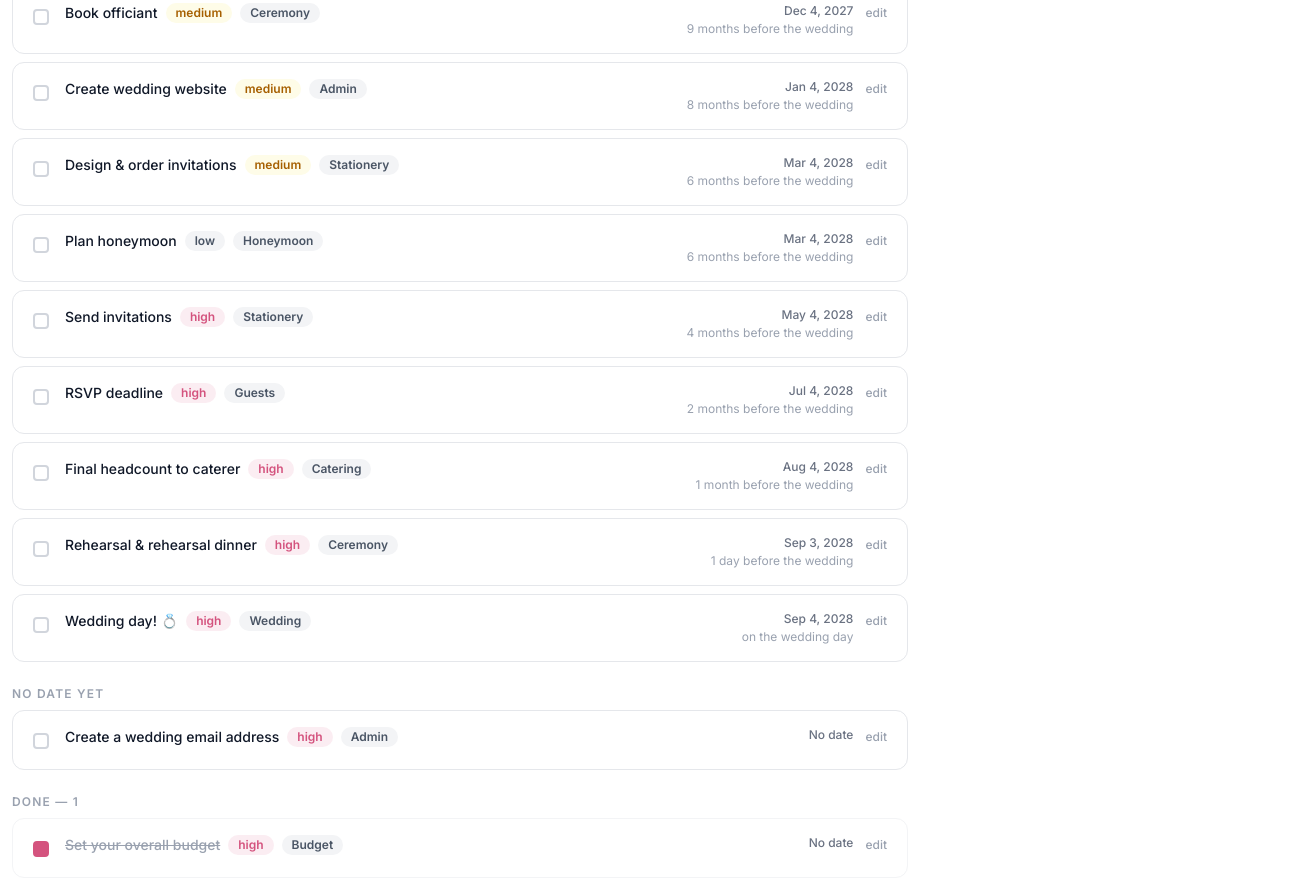
Test case: Timeline — one merged list › persists a completed item that was never in the store
The image size is (1292, 878).
(page scrolled)
Click the button named "Mark \"Create a wedding email address\" complete" at (41, 741), box [33,733,49,749]
(page scrolled)
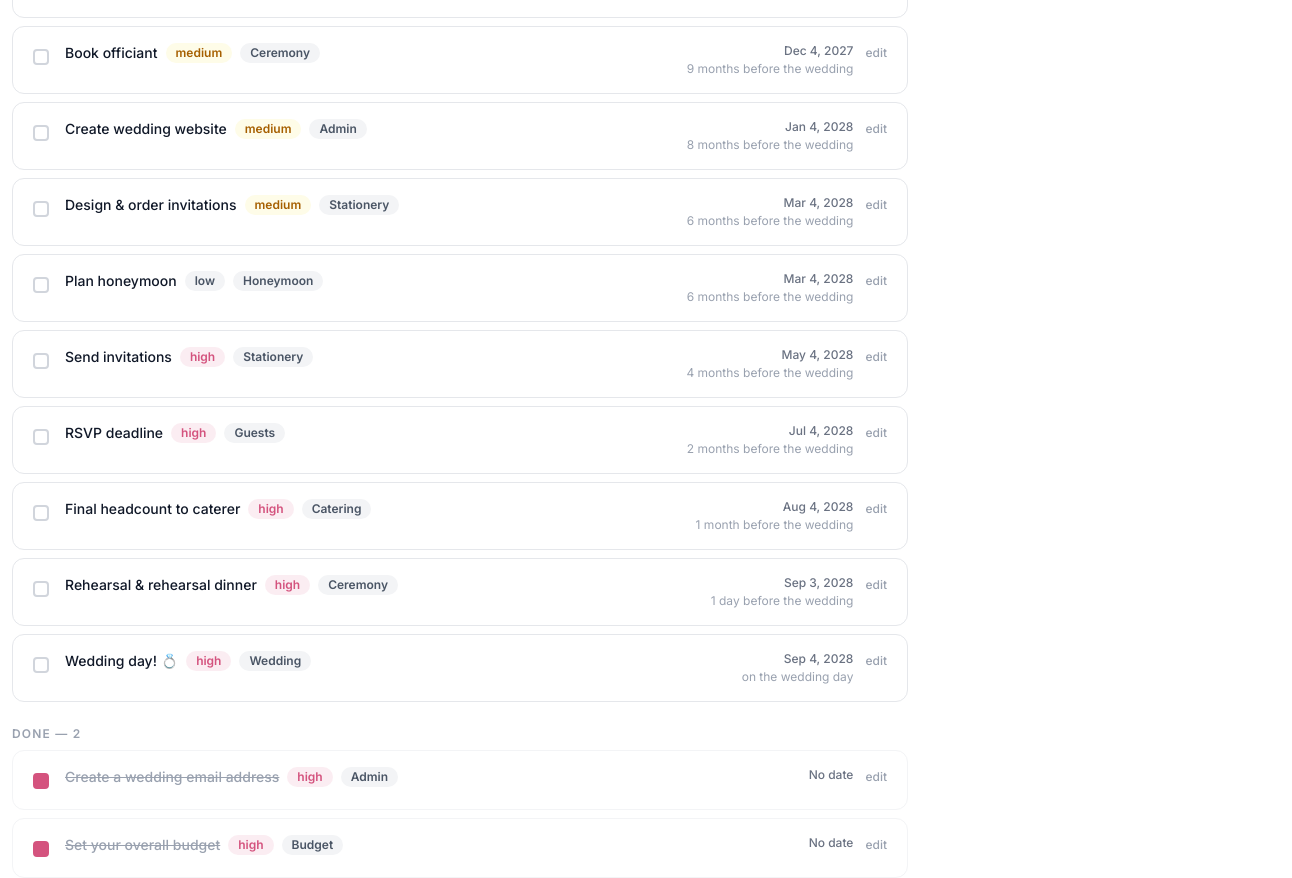
Check: the button named "Mark \"Create a wedding email address\" incomplete" is shown, box [33,773,49,789]
